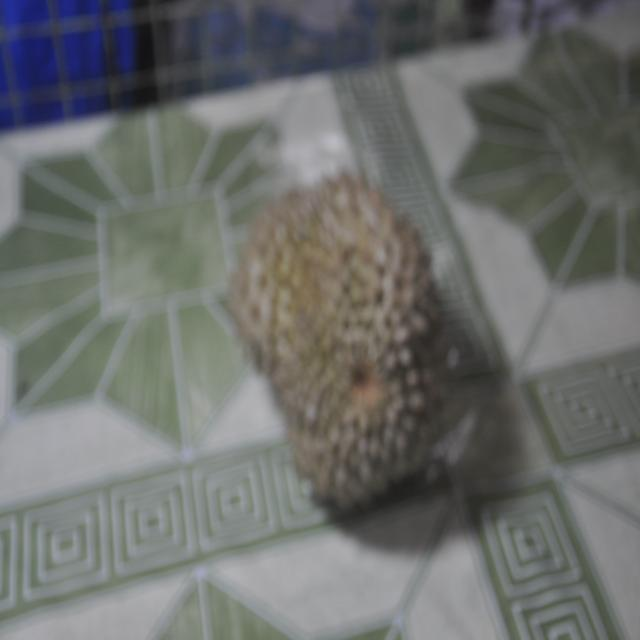mature: (216, 136, 455, 521)
